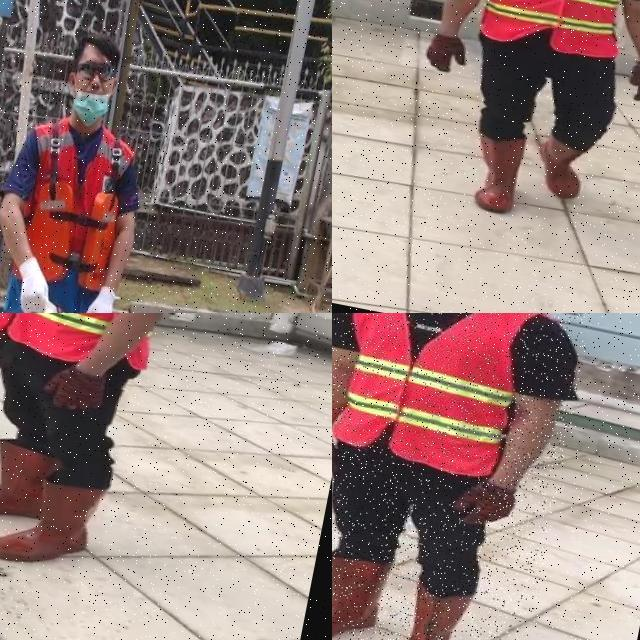boots: (0, 466, 105, 575), (0, 432, 66, 530), (332, 547, 394, 640), (462, 130, 528, 215), (387, 582, 475, 640), (531, 132, 595, 202)
helmet: (17, 293, 104, 313)
vest: (332, 313, 533, 482), (0, 111, 154, 313), (475, 0, 640, 66), (0, 313, 181, 372)
